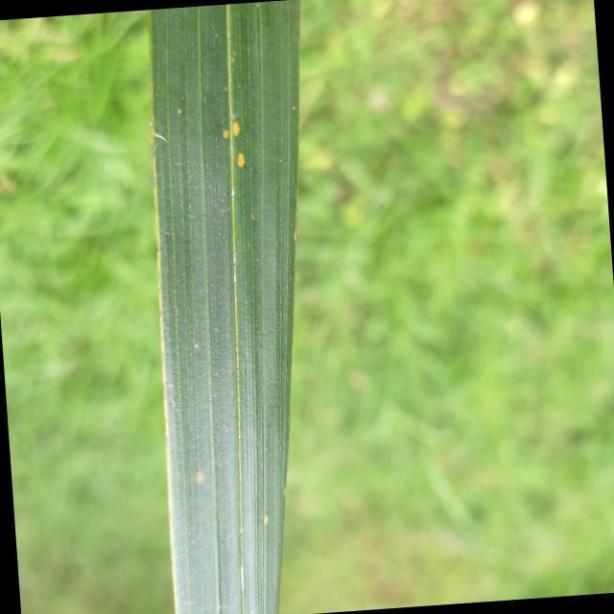Kalium: (146, 6, 302, 614)
